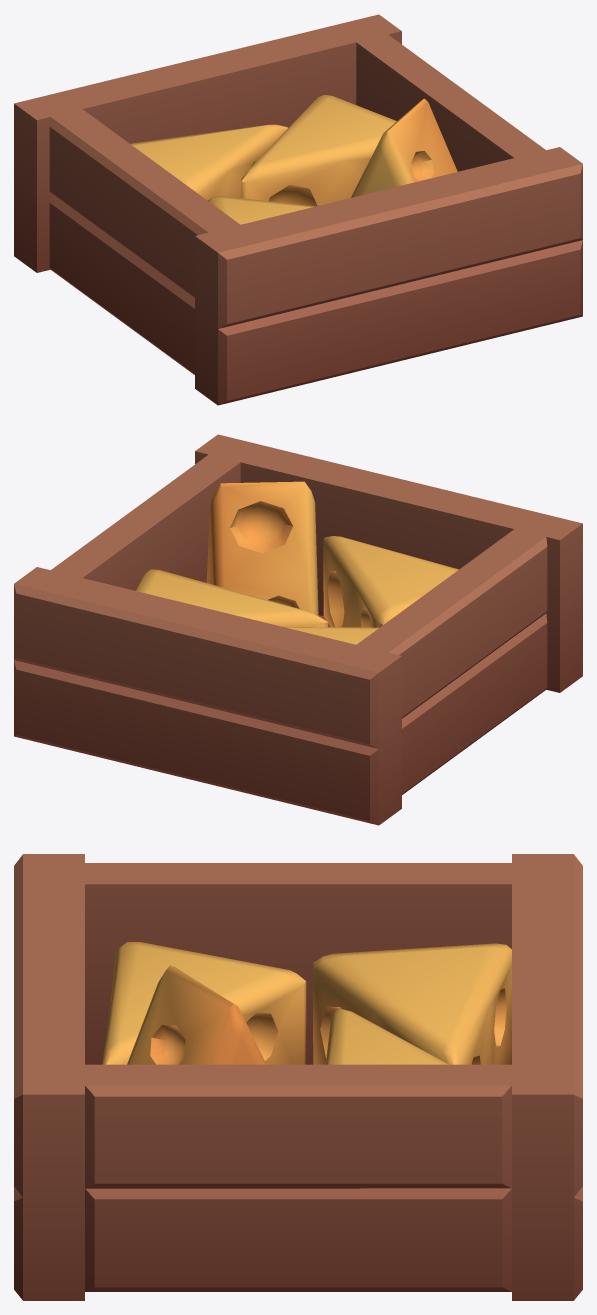
File: crate_cheese.obj
3 views of the same model, one above another, from view 1: azimuth 30°, elevation 25°; view 2: azimuth 150°, elevation 25°; view 3: azimuth 270°, elevation 25° (orthographic). The views are drawn at different scales.
Visible parts, largest first — view 1: crate_cheese_Cube.232; view 2: crate_cheese_Cube.232; view 3: crate_cheese_Cube.232.
Part boxes in pixels (x1,y1,x2,y2): crate_cheese_Cube.232: (14,14,582,405); crate_cheese_Cube.232: (14,434,582,825); crate_cheese_Cube.232: (14,854,582,1300).
Bounding box in the file's own units: 2 × 0.946 × 2.
Materials: 1 (1 with a texture image).
